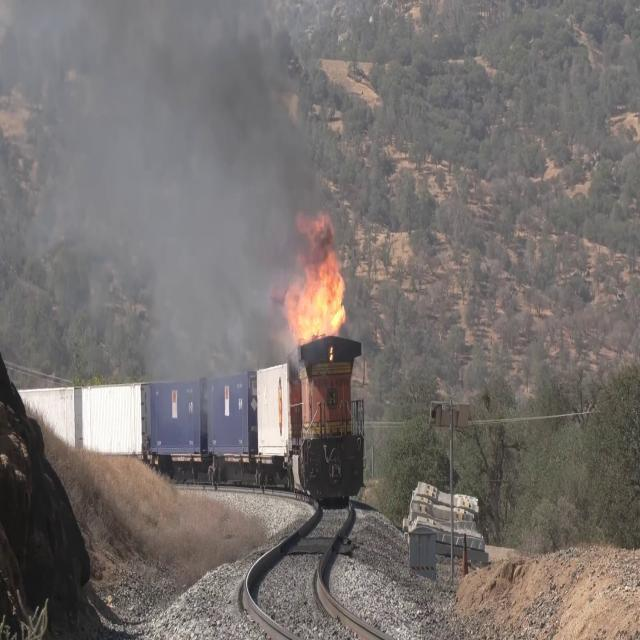Fire: (285, 209, 346, 354)
Smoke: (97, 0, 289, 285)
